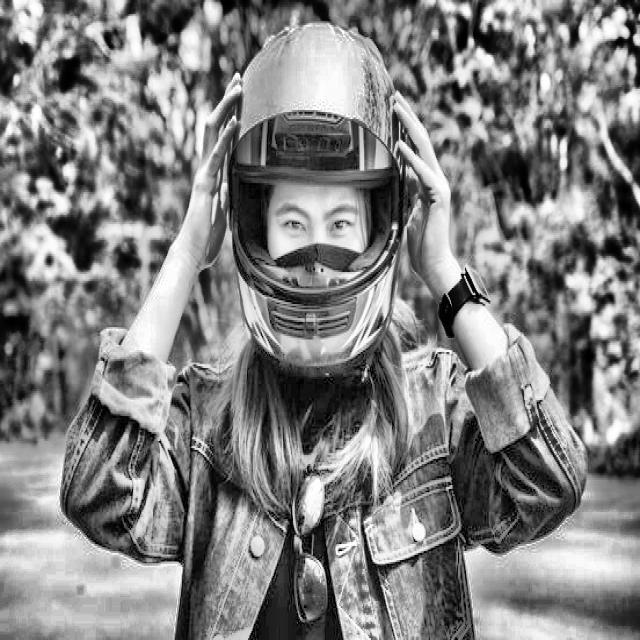Helmet: (215, 17, 425, 365)
